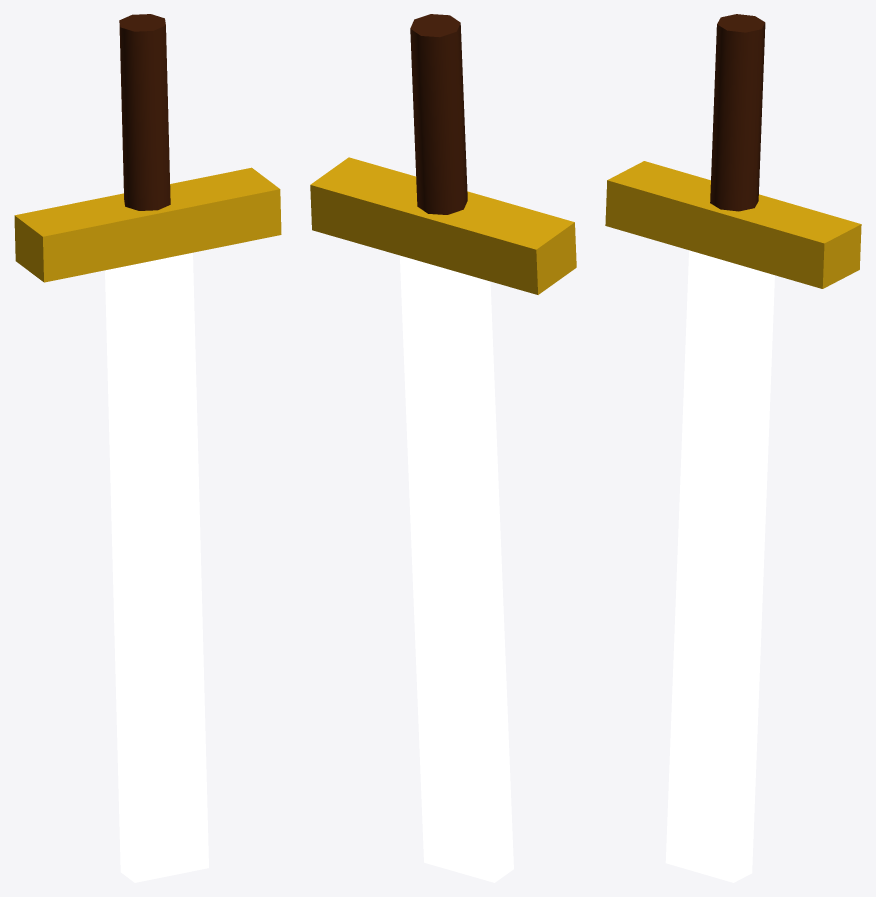
The model's file is weapon0005.glb.
3 views of the same model, side by side, from view 1: azimuth 30°, elevation 25°; view 2: azimuth 150°, elevation 25°; view 3: azimuth 330°, elevation 25° (orthographic). The views are drawn at different scales.
Parts seen in each view (by area): view 1: weapon0005_export; view 2: weapon0005_export; view 3: weapon0005_export.
Part boxes in pixels (box(x1,y1,x2,y2)): weapon0005_export: box(14, 14, 281, 882); weapon0005_export: box(310, 14, 576, 882); weapon0005_export: box(605, 14, 861, 882).
Bounding box in the file's own units: 0.2461 × 0.8401 × 0.0967.
